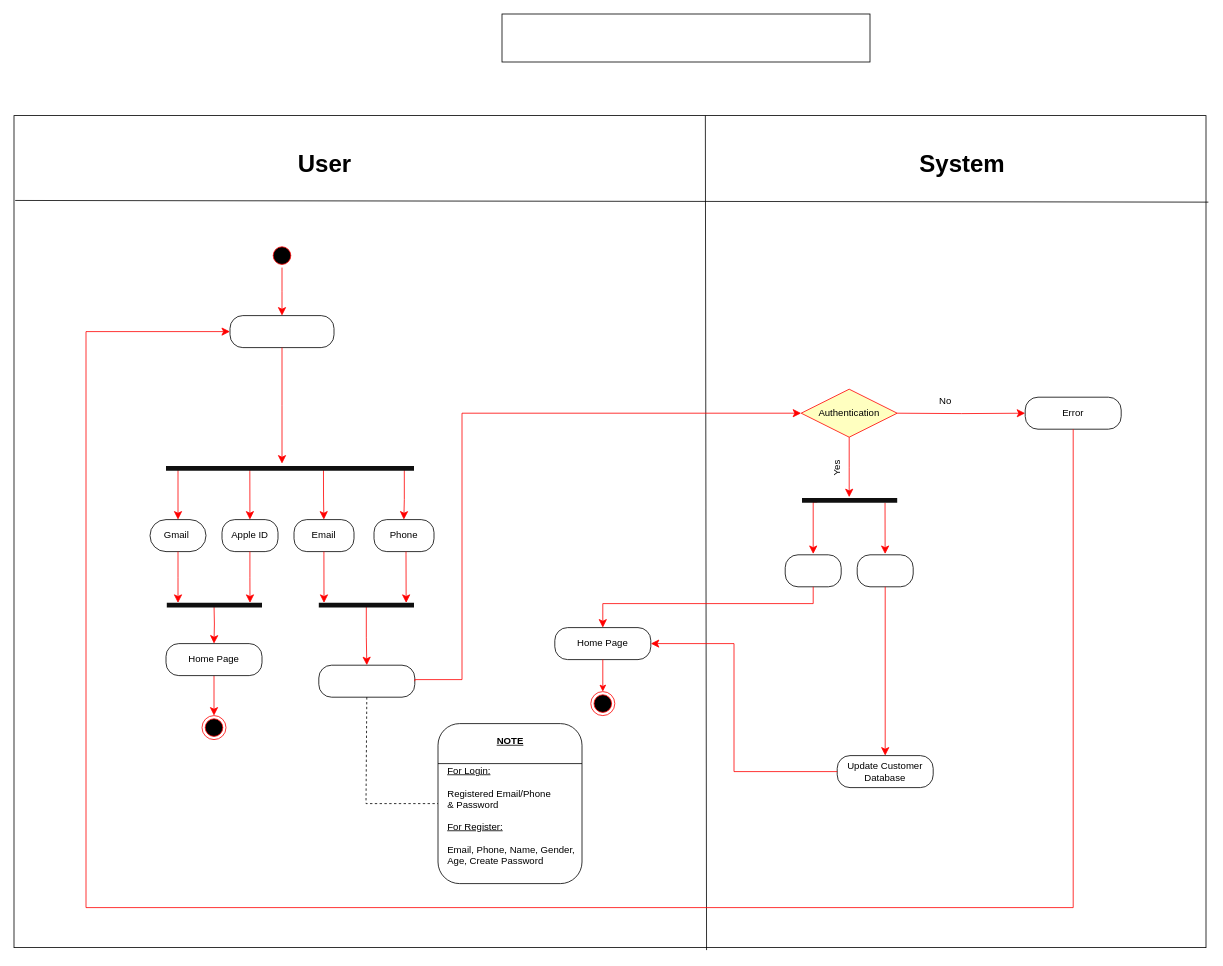
This 1223x966 diagram has some shape labels left out. Here are the shapes that lost their labels. From the top down, the centre of each, then its label:
At point (685, 37): "Login Activity Diagram".
At point (281, 331): "Choose Login/Register Method".
At point (812, 570): "Login".
At point (884, 570): "Register".
At point (366, 680): "Provide Necessary Details".
